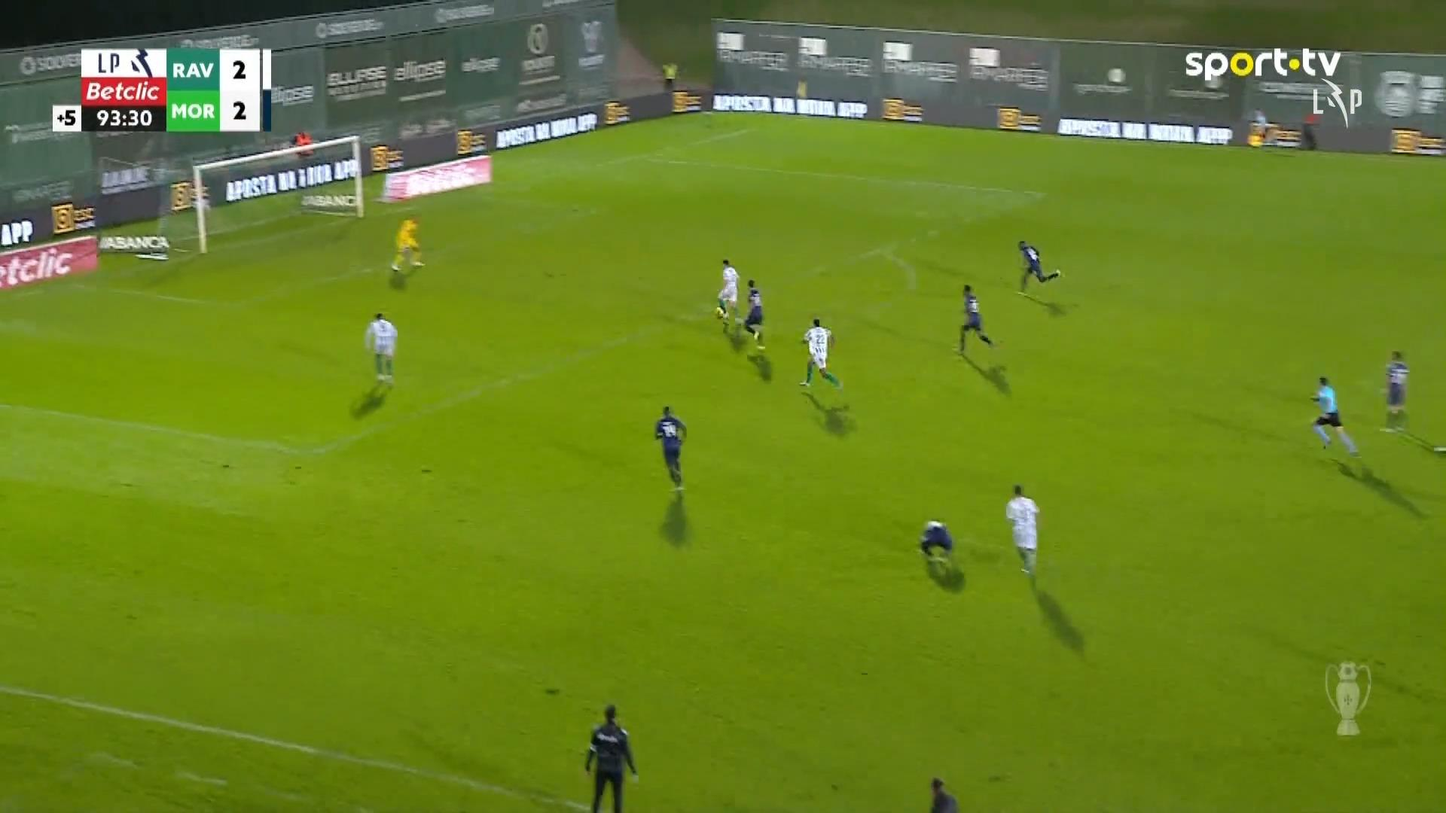ball: (714, 306, 725, 317), (1056, 269, 1062, 277)
goalkeeper: (389, 215, 424, 275)
player: (798, 317, 843, 390), (1005, 483, 1039, 574), (654, 404, 687, 492), (956, 283, 992, 355), (1016, 239, 1061, 295), (365, 311, 398, 385), (1383, 349, 1409, 431), (714, 258, 740, 327), (742, 278, 764, 349), (917, 519, 953, 562), (929, 776, 957, 811)
referee: (583, 703, 639, 811), (1309, 374, 1360, 456)
